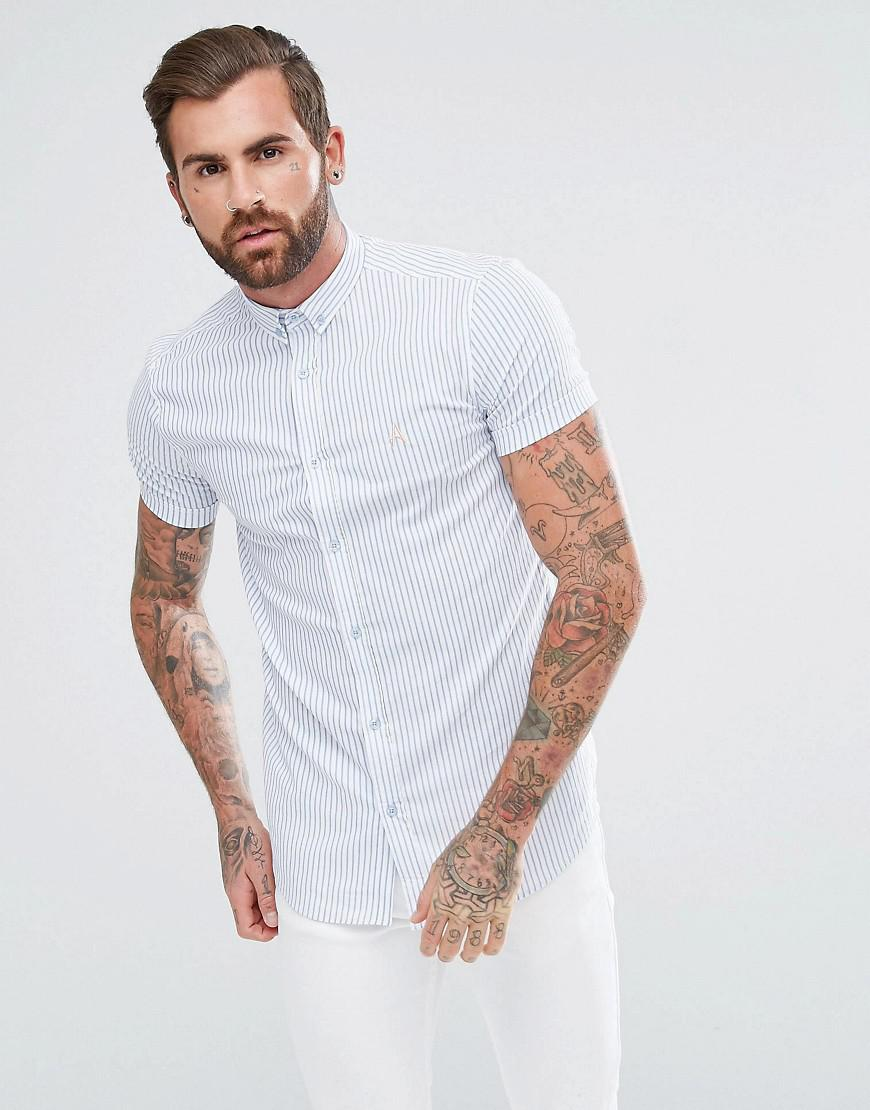teeshirt: (95, 262, 622, 917)
